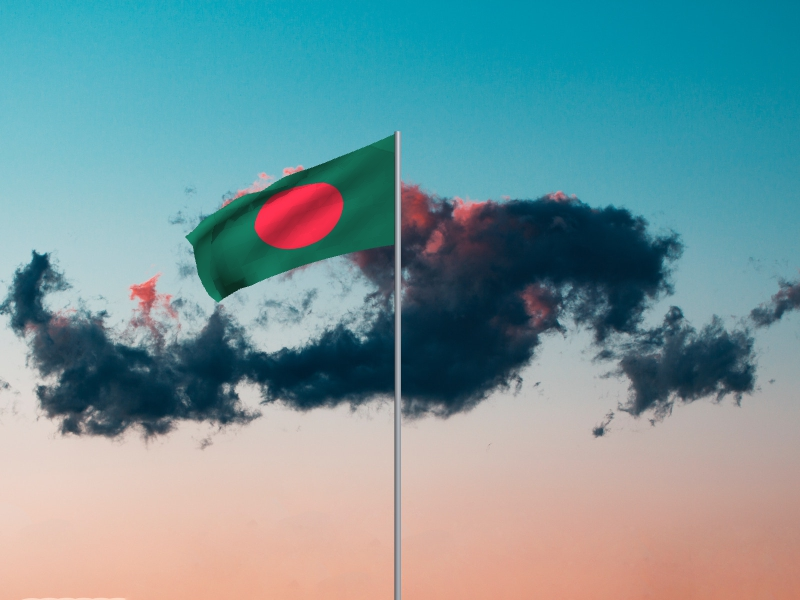bd: (183, 135, 395, 305)
